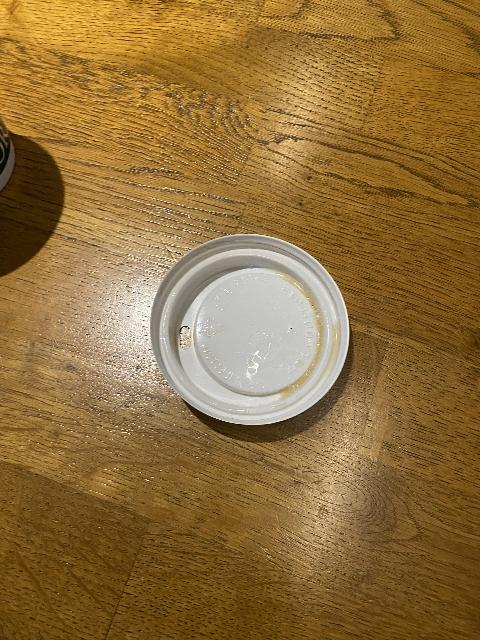Plastik: (148, 237, 354, 429)
